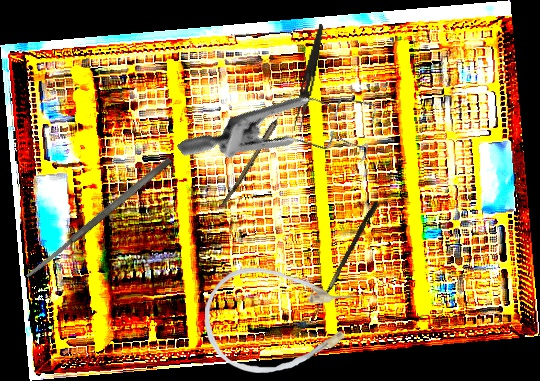Cannula: (205, 268, 355, 373)
Dressing Forceps: (292, 22, 326, 134)
Hook Surgical: (309, 200, 380, 326)
Spatula Surgical: (23, 155, 174, 281)
Speculum: (176, 34, 397, 246)
Surgical Spoon: (221, 90, 296, 209)
